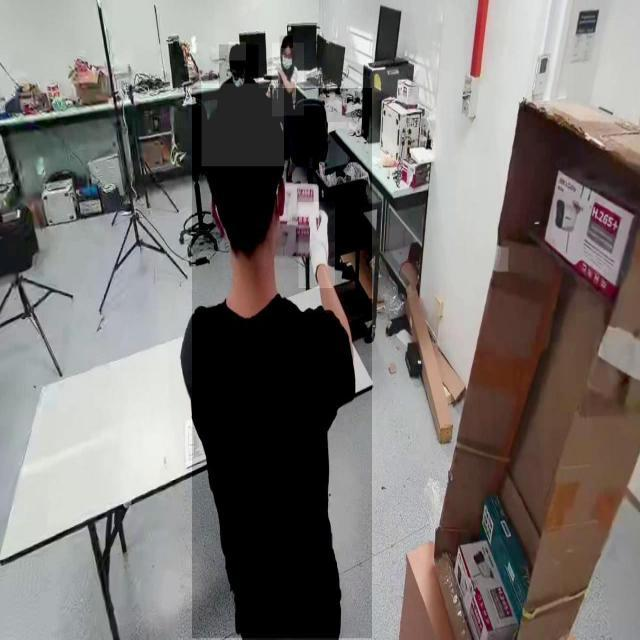gloves: (298, 202, 336, 288)
